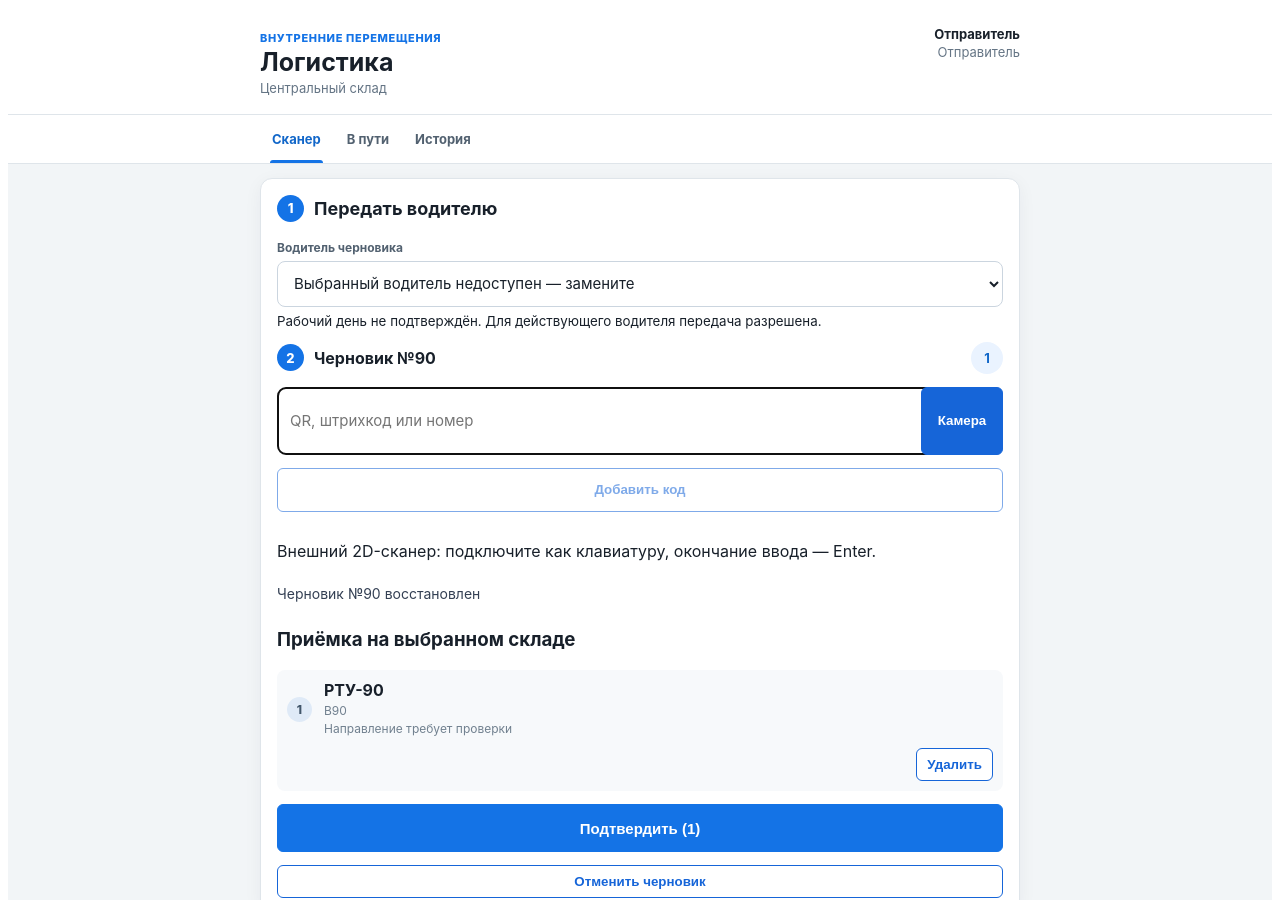
Test: LogisticsWorkspace › заменяет недоступного водителя без потери сканов
Select "Иван Водитель — Рабочий день неизвестен" in the dropdown labelled "Водитель черновика" at (640, 284), box 277,261 -> 1003,307
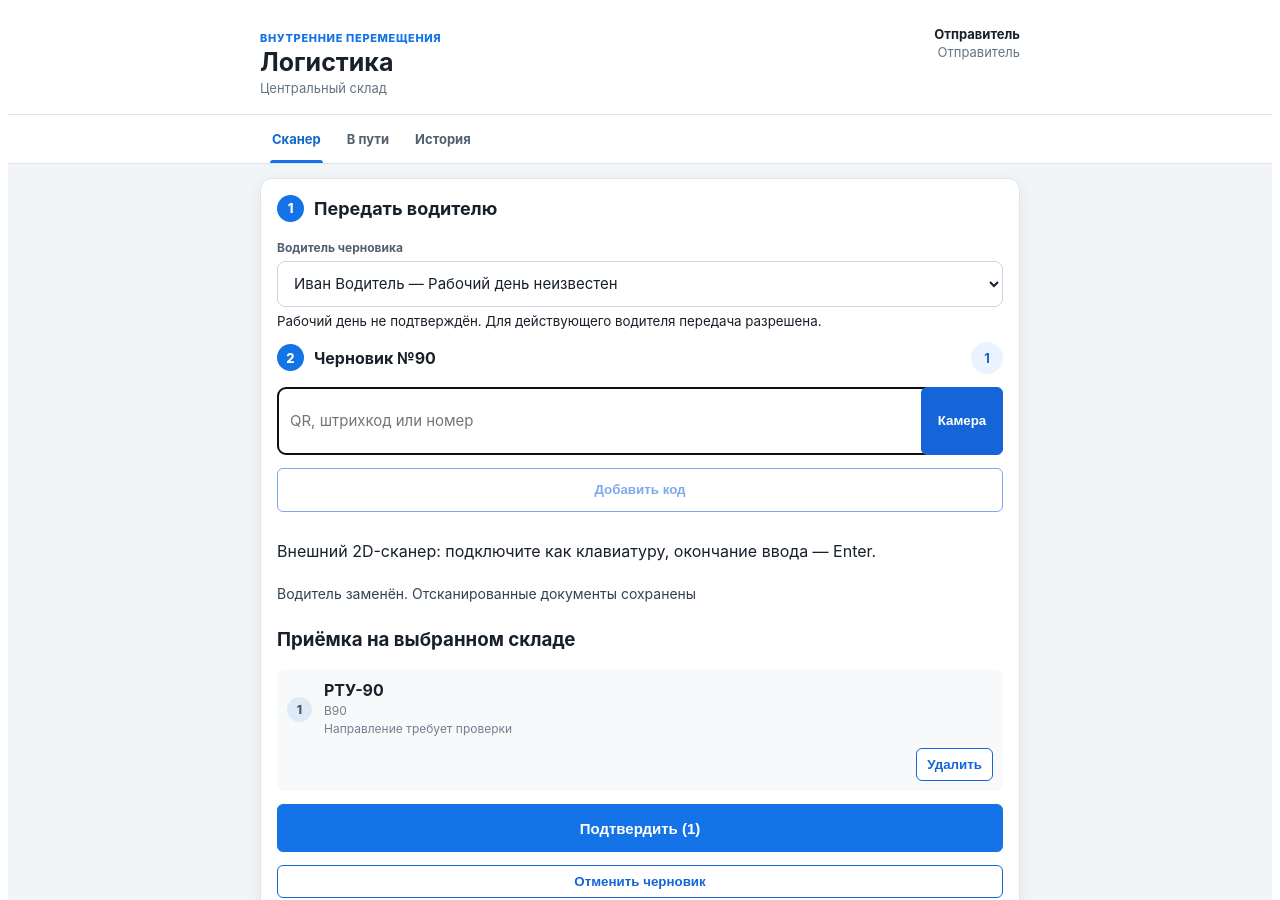
Expected: the text "РТУ-90" is shown, 324,680 -> 384,700
Now the text "Водитель заменён. Отсканированные документы сохранены" is shown, box 277,585 -> 696,602
